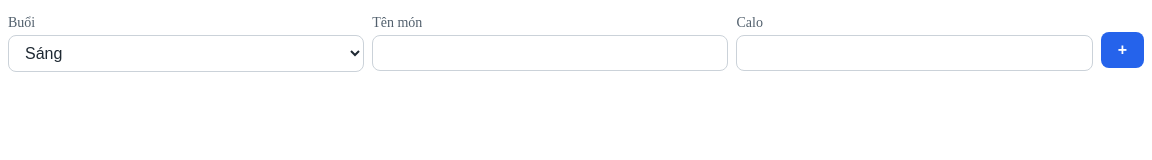
Test: MealQuickAddForm — tên rỗng chặn ở client (PLAN §4 bước 6) › tên rỗng, bấm + → KHÔNG gọi API, hiện lỗi dưới ô tên
Step 1. Type "450" into the number field labelled "Calo" → [914, 53], box [736,35,1093,71]
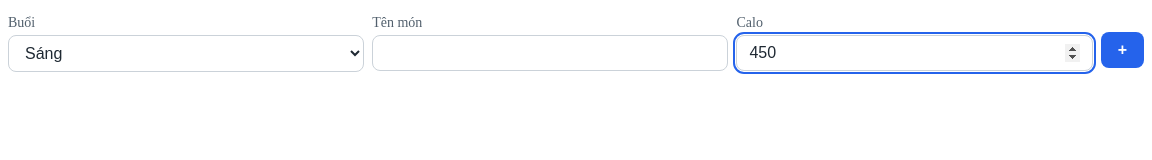
Step 2. Click the button "+" → [1122, 50], box [1101,32,1144,68]
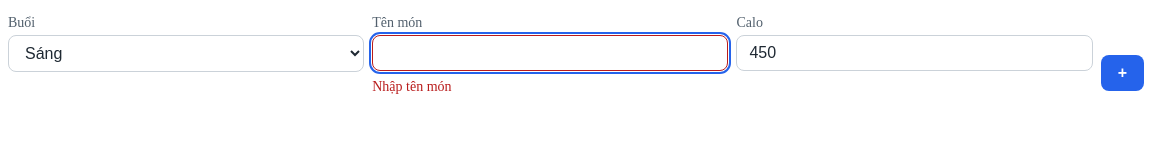
Result: the text "Nhập tên món" is shown at [372,79,452,94]
